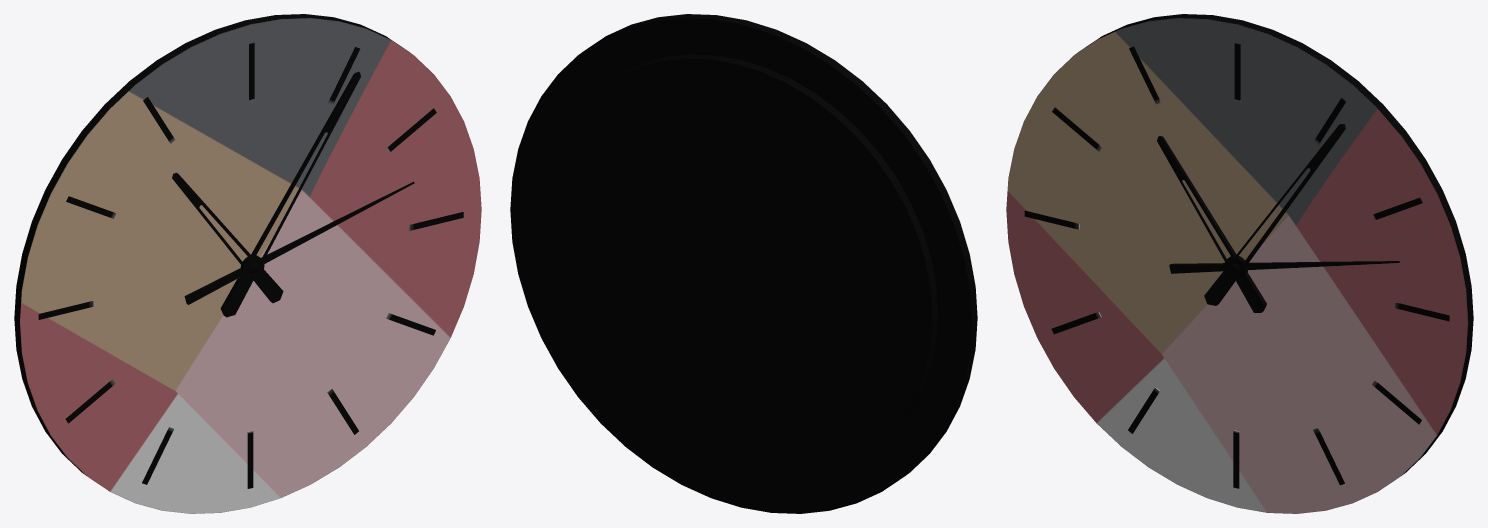
The model's file is wall_clock.glb.
3 renders of one model, left to right at view 1: azimuth 30°, elevation 25°; view 2: azimuth 150°, elevation 25°; view 3: azimuth 330°, elevation 25°, orthographic.
Parts seen in each view (by area): view 1: pDisc1, pCube14, pCube13, pCube15; view 2: pDisc1; view 3: pDisc1, pCube14, pCube15, pCube13.
Boxes of the visible parts, x1,y1,x2,y2 form: pDisc1: (14, 14, 481, 513); pCube14: (220, 71, 360, 317); pCube13: (184, 181, 414, 304); pCube15: (172, 172, 283, 303); pDisc1: (510, 14, 977, 513); pDisc1: (1006, 14, 1473, 513); pCube14: (1204, 124, 1345, 305); pCube15: (1157, 136, 1266, 312); pCube13: (1169, 261, 1399, 273).
Bounding box in the file's own units: 4.13 × 4.13 × 0.2223.
1 material, 1 textured.
